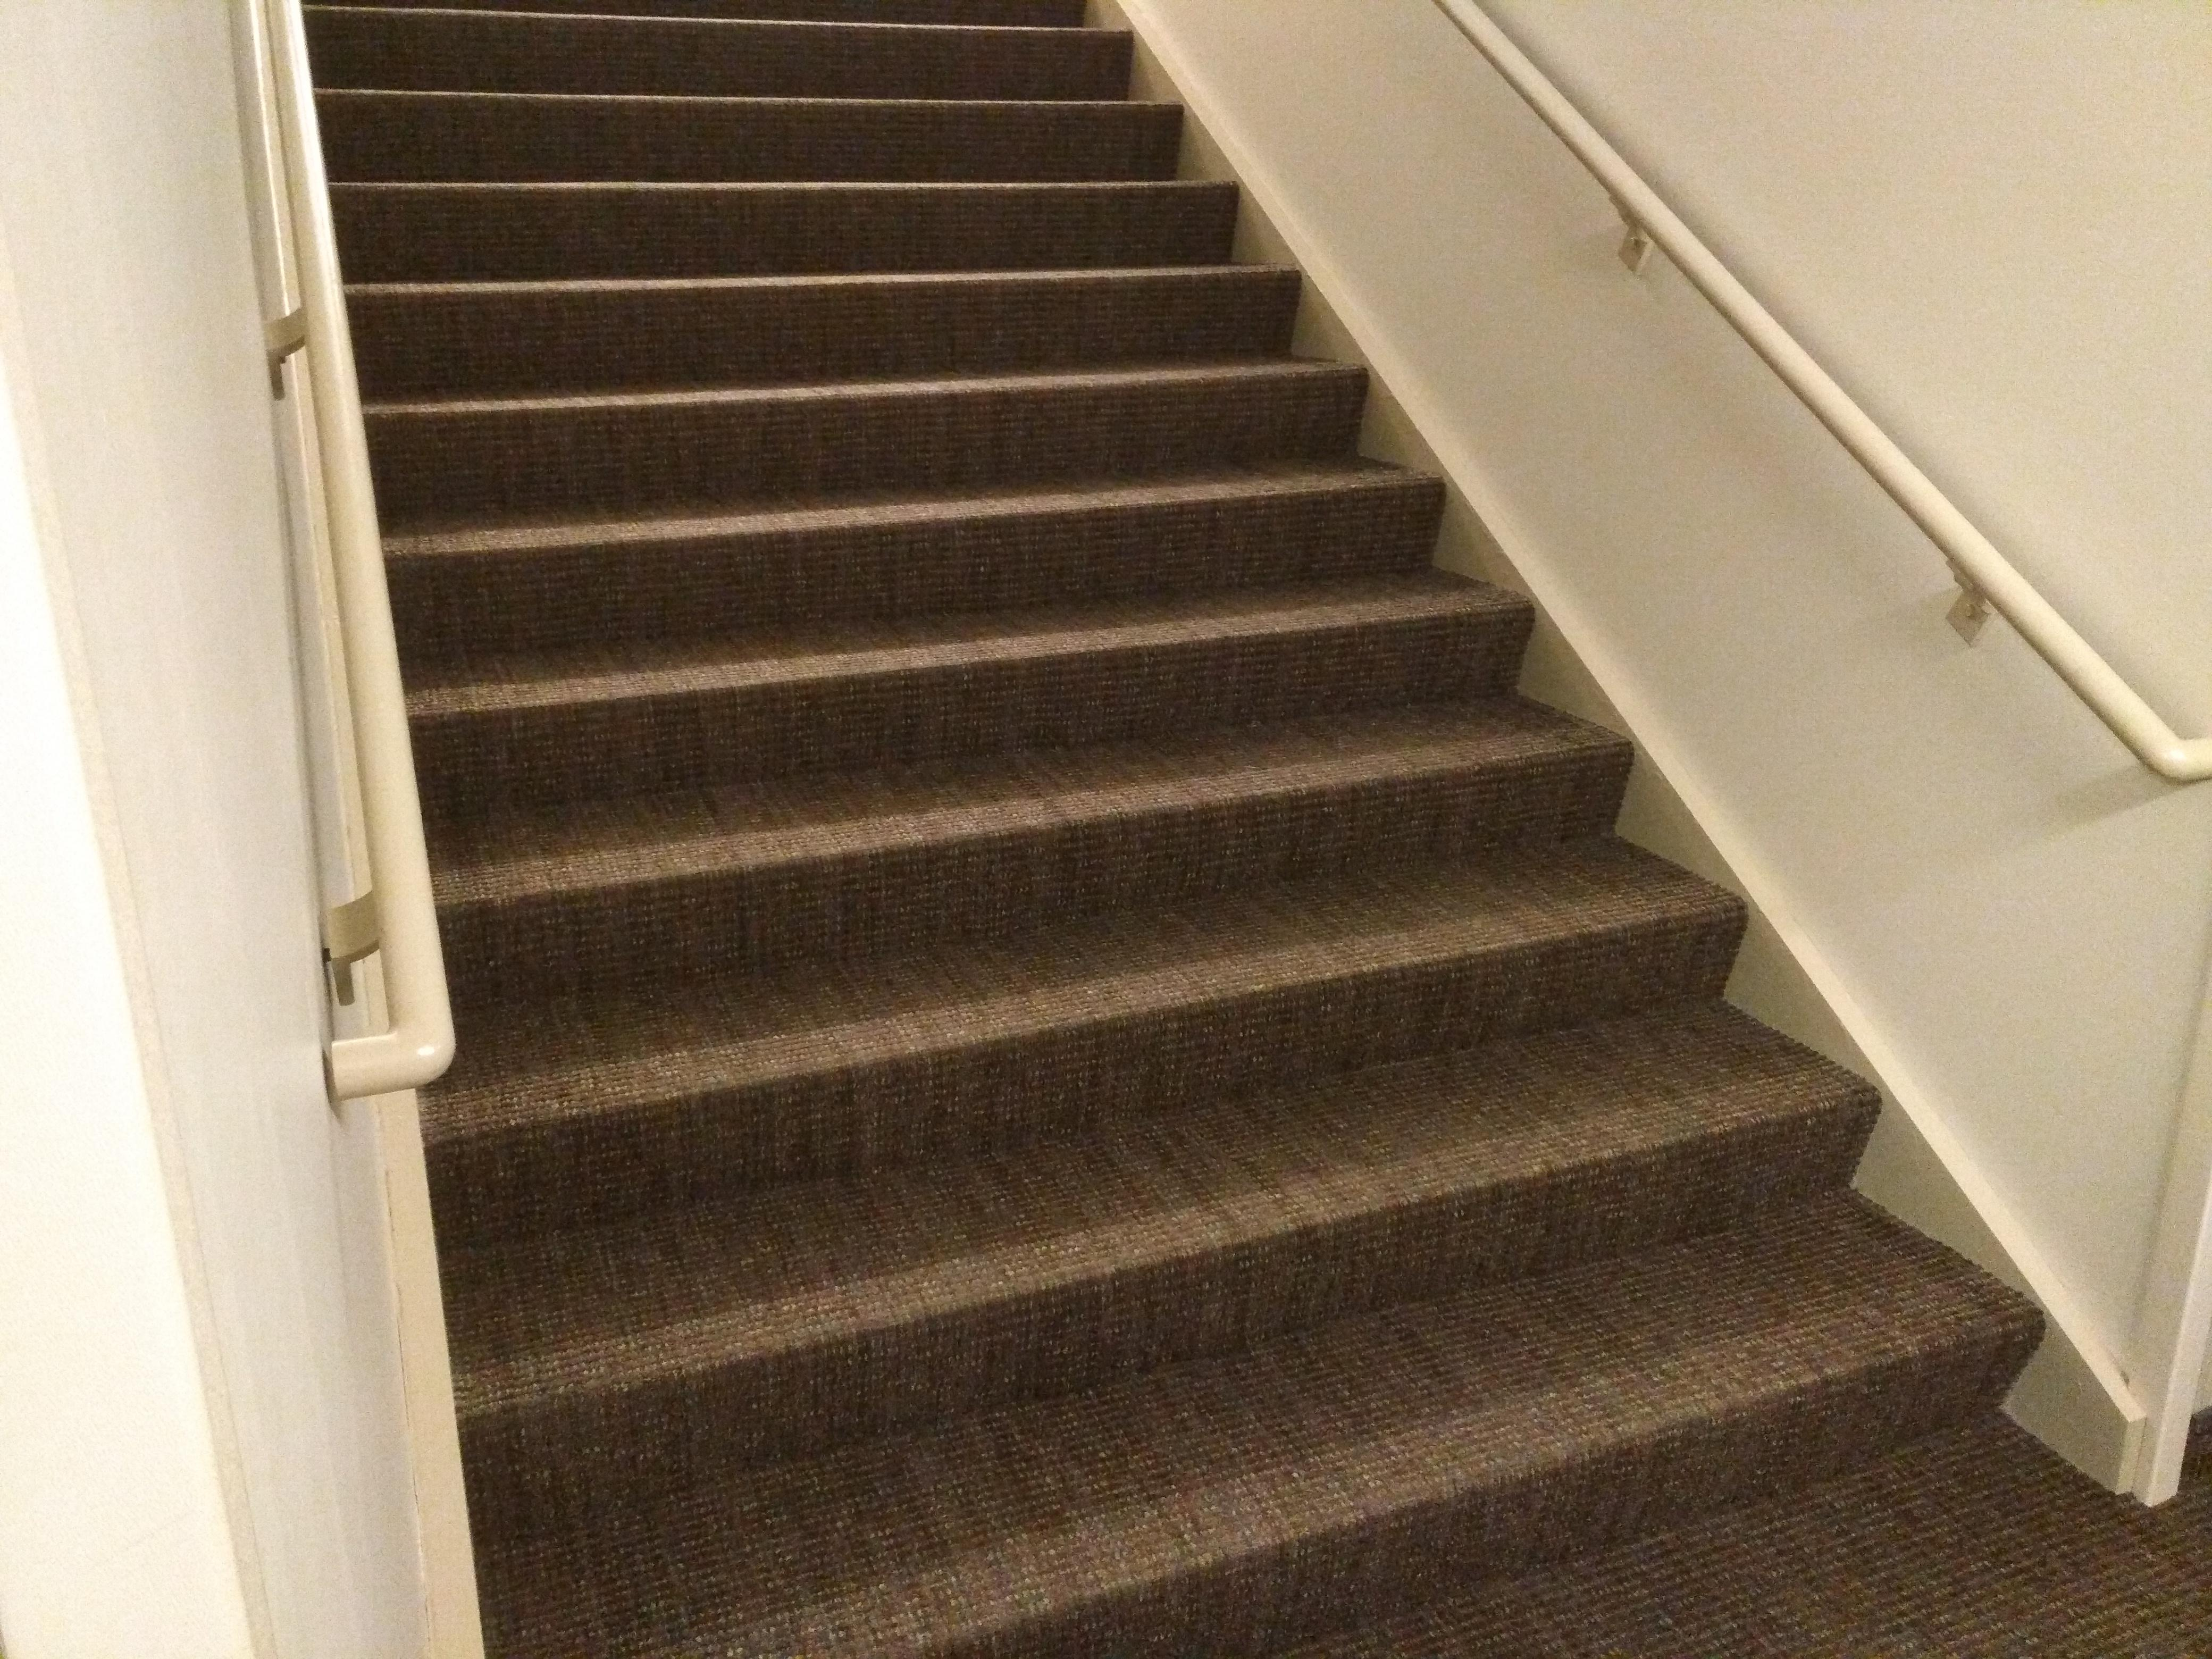stairs_up: (280, 3, 2054, 1628)
